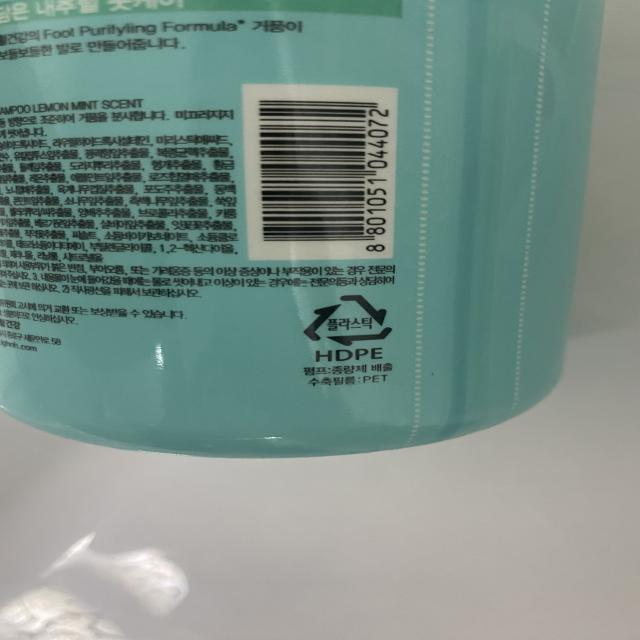Plastic: (294, 291, 398, 351)
